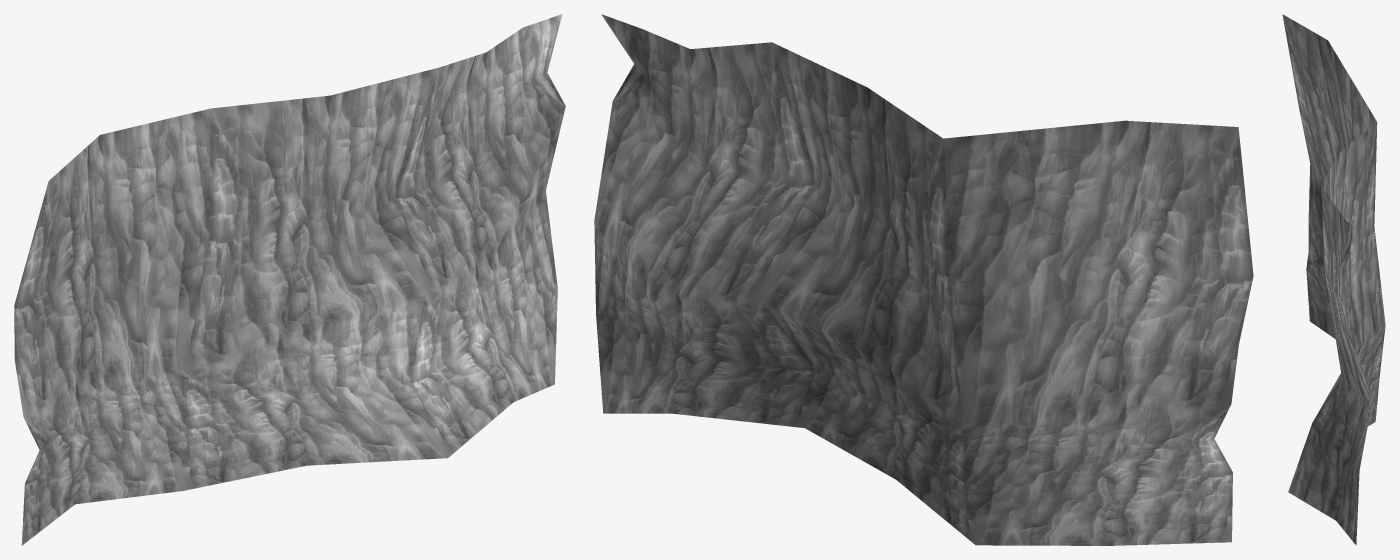
File: SWORDLIGHT20_PS-AREA03_191.fbx
The picture shows the model from 3 angles, left to right: view 1: azimuth 30°, elevation 25°; view 2: azimuth 150°, elevation 25°; view 3: azimuth 270°, elevation 25°; orthographic projection. The views are drawn at different scales.
Visible parts, largest first — view 1: SWORDLIGHT20_PS-AREA03_191; view 2: SWORDLIGHT20_PS-AREA03_191; view 3: SWORDLIGHT20_PS-AREA03_191.
Boxes of the visible parts, box(x1,y1,x2,y2) form: SWORDLIGHT20_PS-AREA03_191: box(14, 14, 565, 545); SWORDLIGHT20_PS-AREA03_191: box(594, 14, 1253, 545); SWORDLIGHT20_PS-AREA03_191: box(1282, 14, 1385, 545).
Bounding box in the file's own units: 242036 × 161214 × 44829.
Materials: 1 (1 with a texture image).
